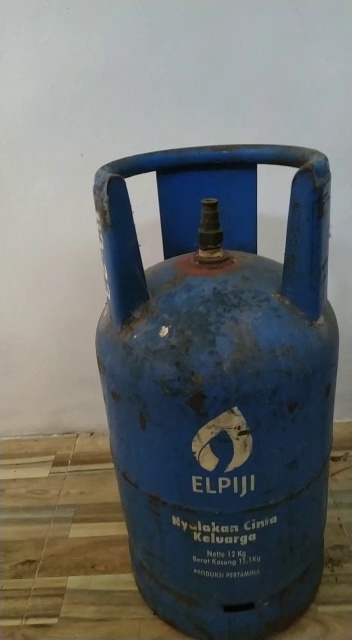blue_gas: (92, 144, 340, 640)
